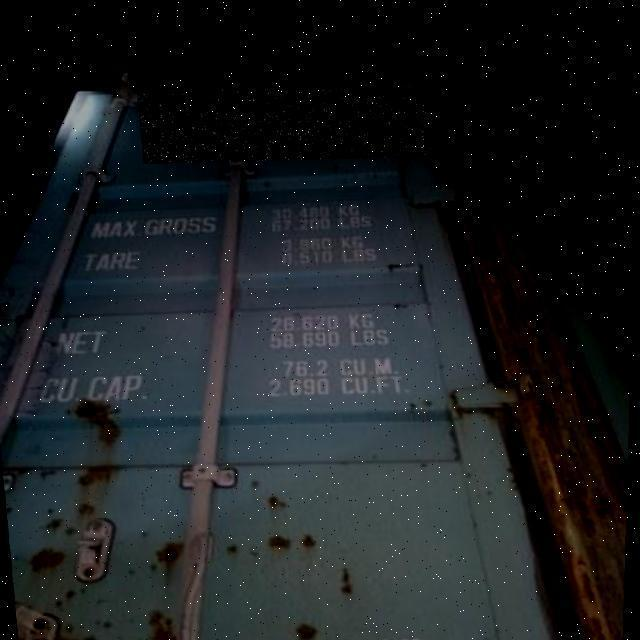container_number_h: (136, 54, 434, 182)
